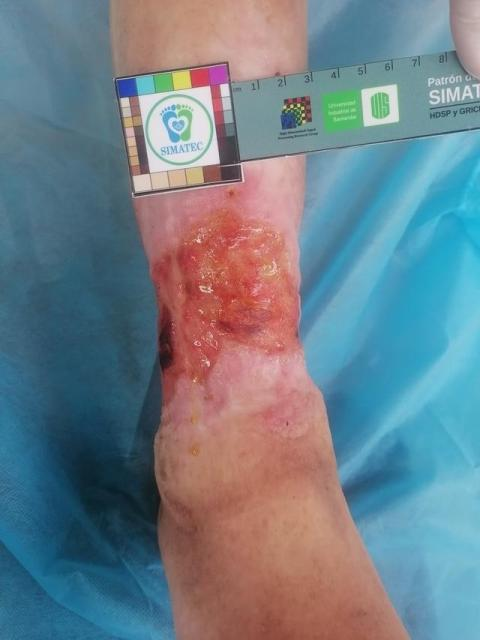wound: (150, 201, 302, 408)
